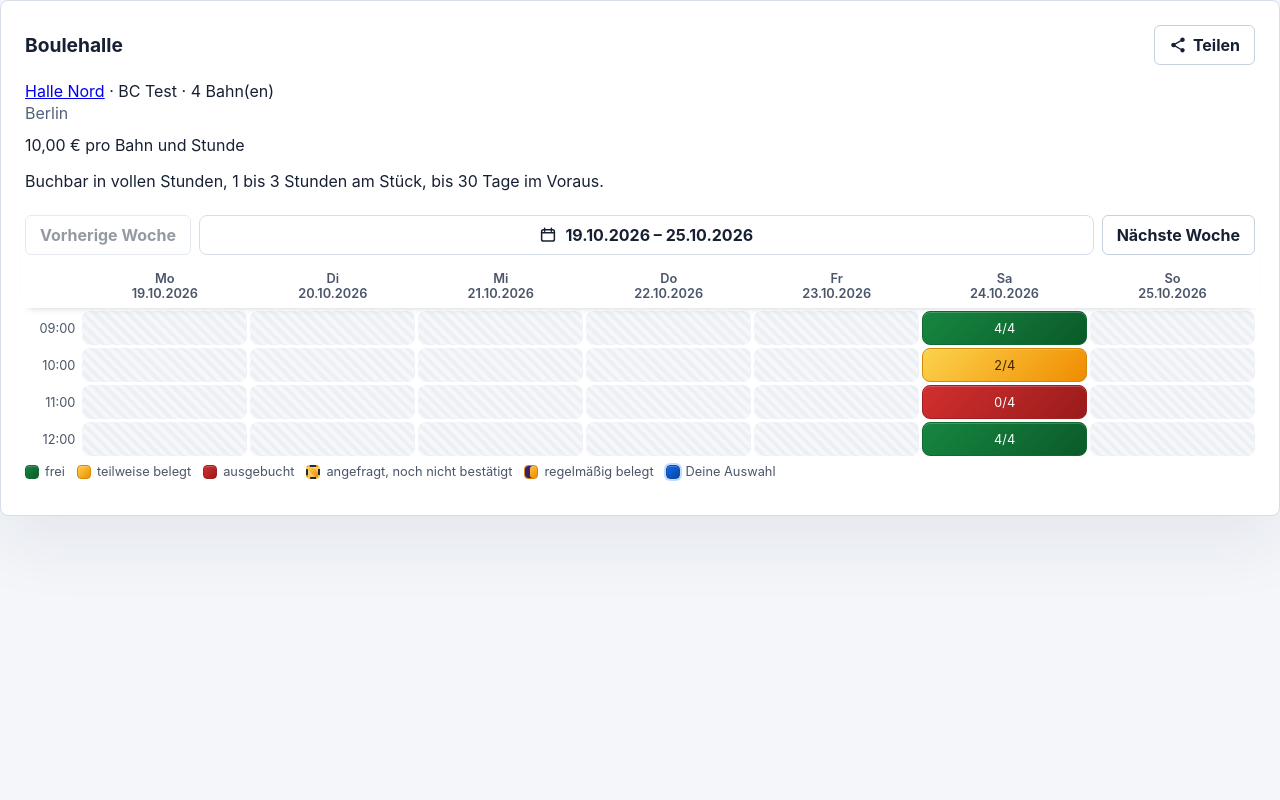
Test: Mietangebote teilen › kopiert Name und URL, wenn Geräte-Teilen fehlt
Click the button "Teilen" at (1204, 45), box left=1154, top=25, right=1255, bottom=65
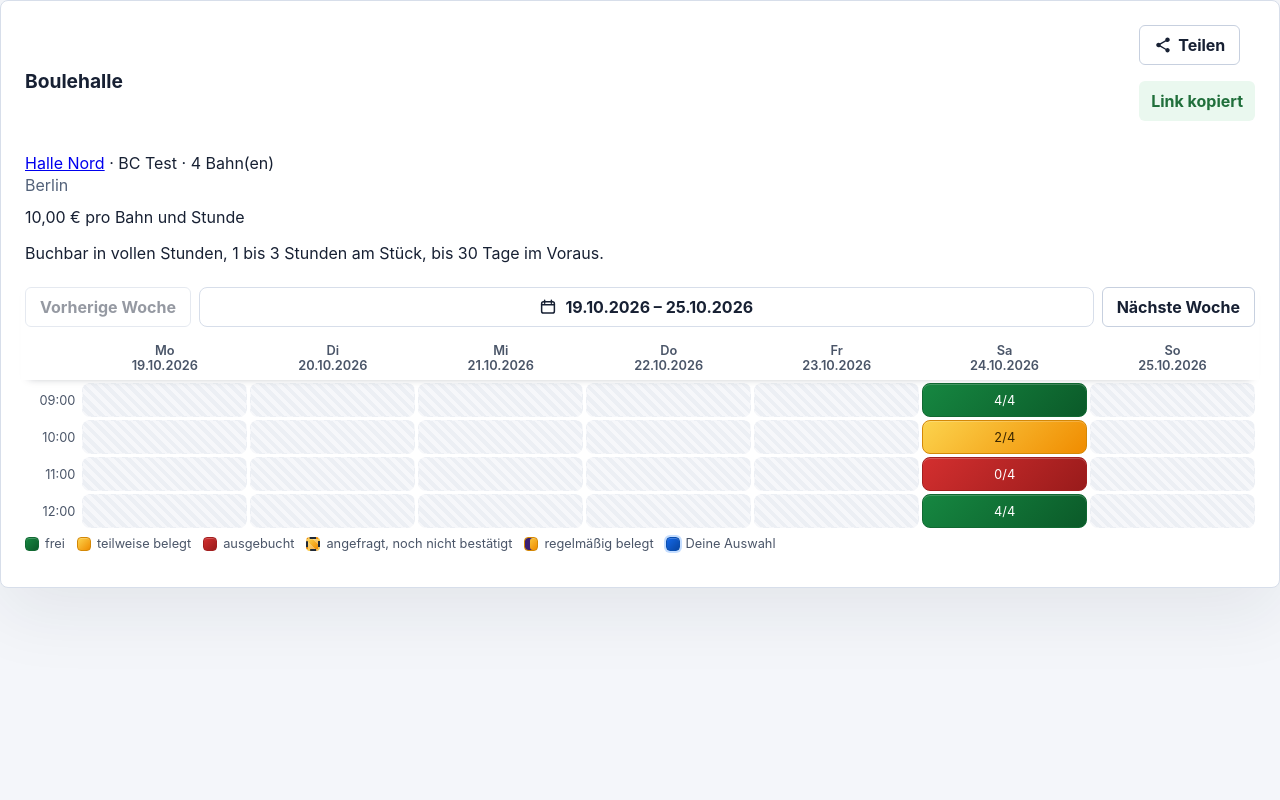
Result: the text "Link kopiert" is shown at left=1139, top=81, right=1255, bottom=121
